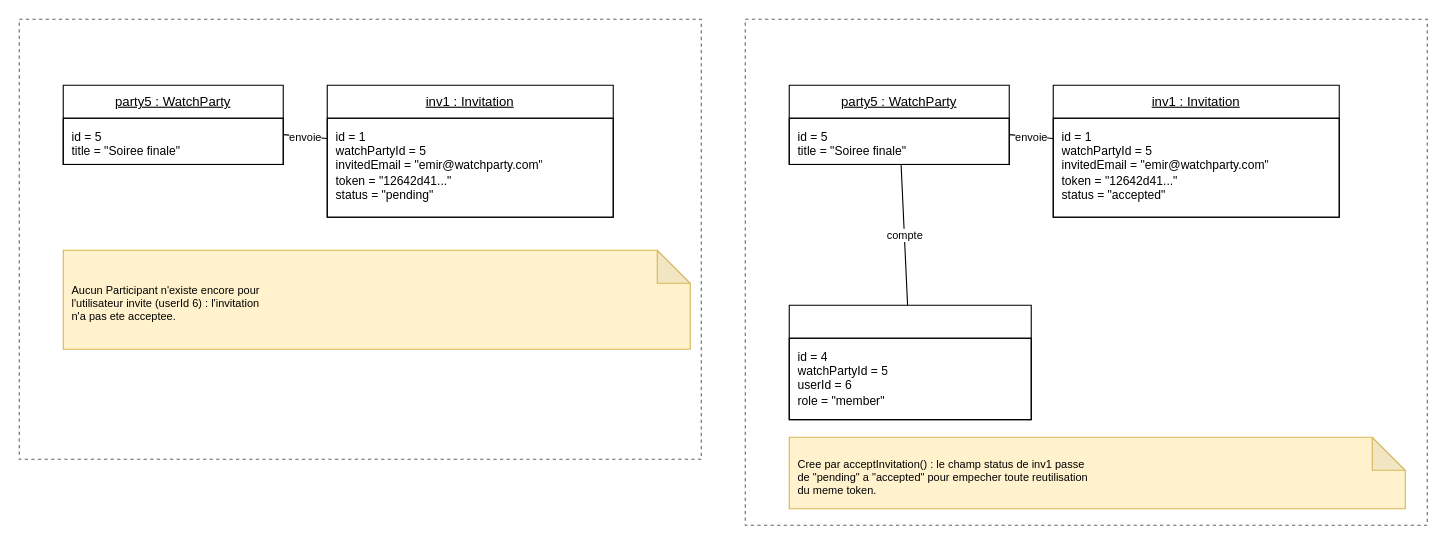
This 1447x545 diagram has some shape labels left out. Each missing label, with the box of its shape:
APRES acceptInvitation(): (744, 18, 1427, 525)
AVANT acceptInvitation(): (18, 18, 701, 459)
part1 : Participant: (788, 304, 1031, 420)
